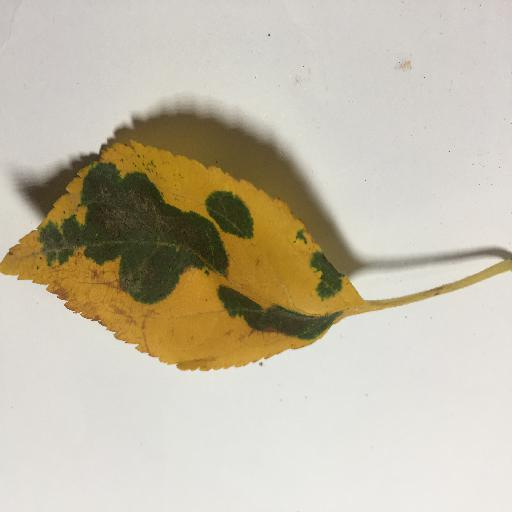Brown_Spot: (84, 176, 213, 260), (232, 299, 326, 345)
